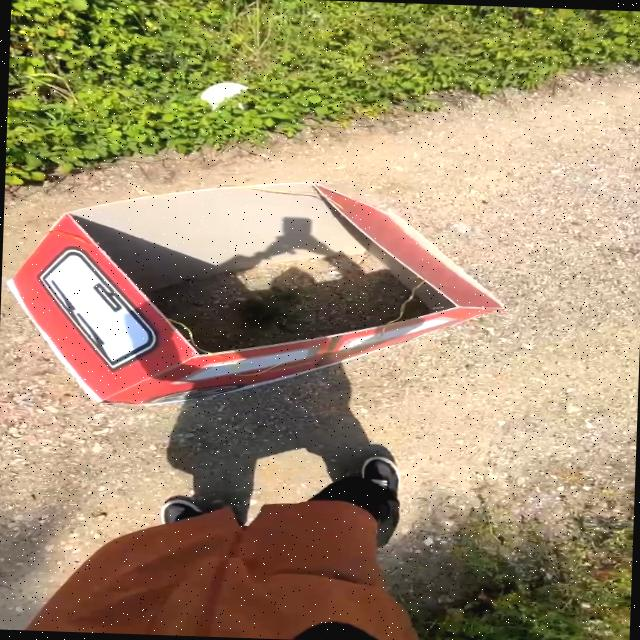red_car: (0, 150, 535, 427)
